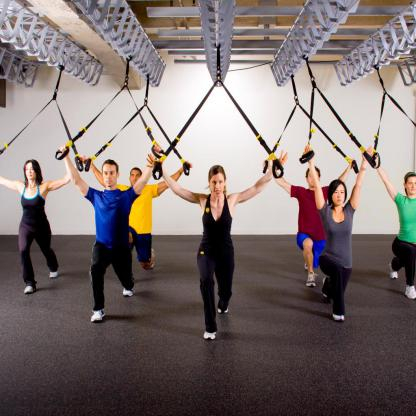face: (104, 165, 118, 188), (211, 174, 225, 197), (333, 185, 346, 207), (308, 170, 320, 188), (26, 163, 38, 180), (131, 171, 142, 188), (407, 177, 416, 195)
